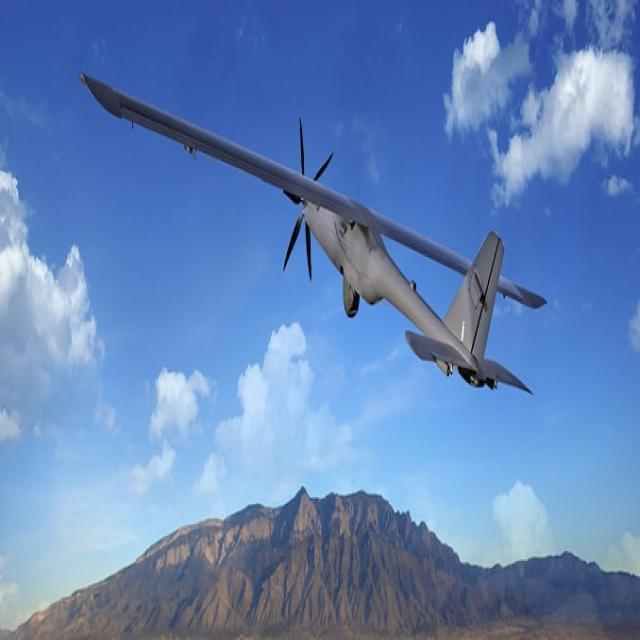iha: (74, 67, 550, 410)
